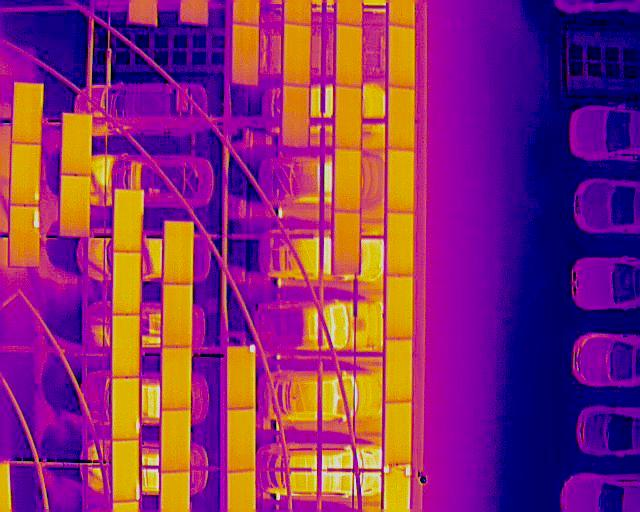Cell: (10, 143, 41, 207), (227, 346, 255, 409)
Cell-Multi: (384, 463, 412, 512)
No-Anomaly: (160, 346, 193, 412), (161, 283, 193, 348), (60, 174, 91, 239), (163, 221, 194, 285), (383, 338, 413, 404), (61, 114, 92, 176), (114, 190, 145, 251), (386, 211, 415, 276), (385, 275, 414, 339), (113, 252, 142, 316), (13, 84, 44, 143), (161, 409, 190, 472), (228, 408, 256, 473), (334, 210, 361, 276), (387, 149, 415, 212), (112, 315, 140, 378), (386, 88, 414, 150), (334, 148, 361, 212), (388, 24, 415, 88), (284, 22, 311, 86), (283, 85, 310, 148), (335, 85, 361, 150), (384, 403, 411, 464), (337, 23, 362, 88), (233, 22, 258, 85), (228, 470, 256, 512), (160, 473, 189, 512)
Unclassified: (9, 204, 40, 269), (113, 440, 140, 504), (113, 378, 140, 441)
